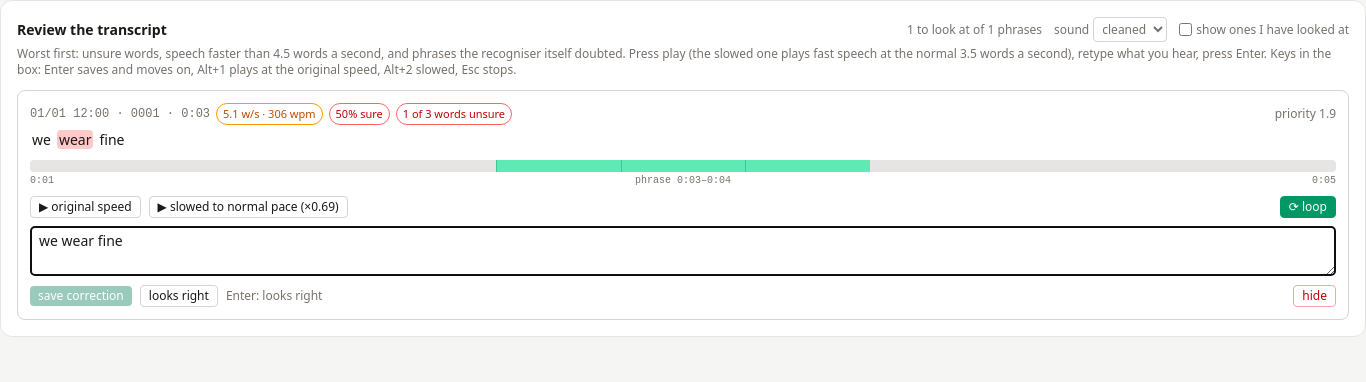
it: ReviewPage › shows the error when hiding fails
Click the button "hide" at [1315, 296], box [1293,285,1336,307]
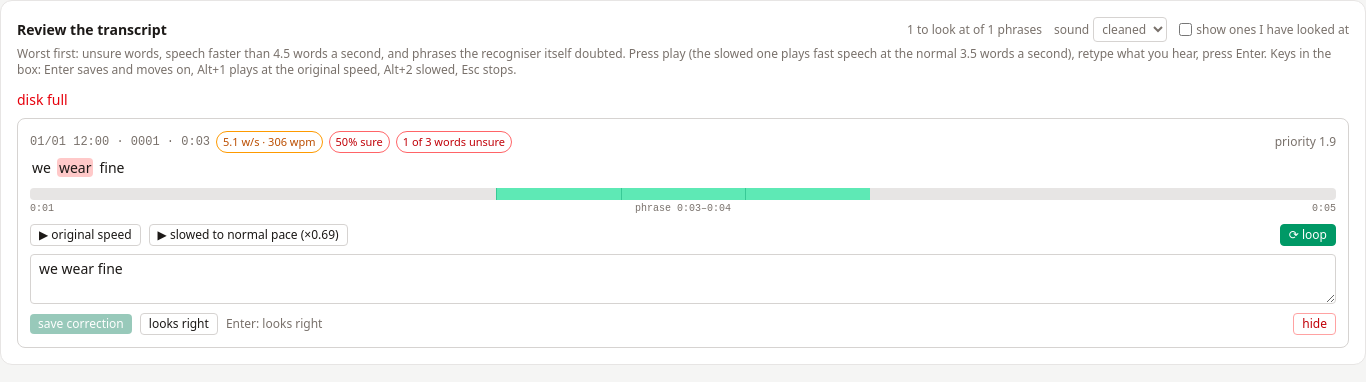
Check: the message reads "disk full", box [17,90,68,109]
